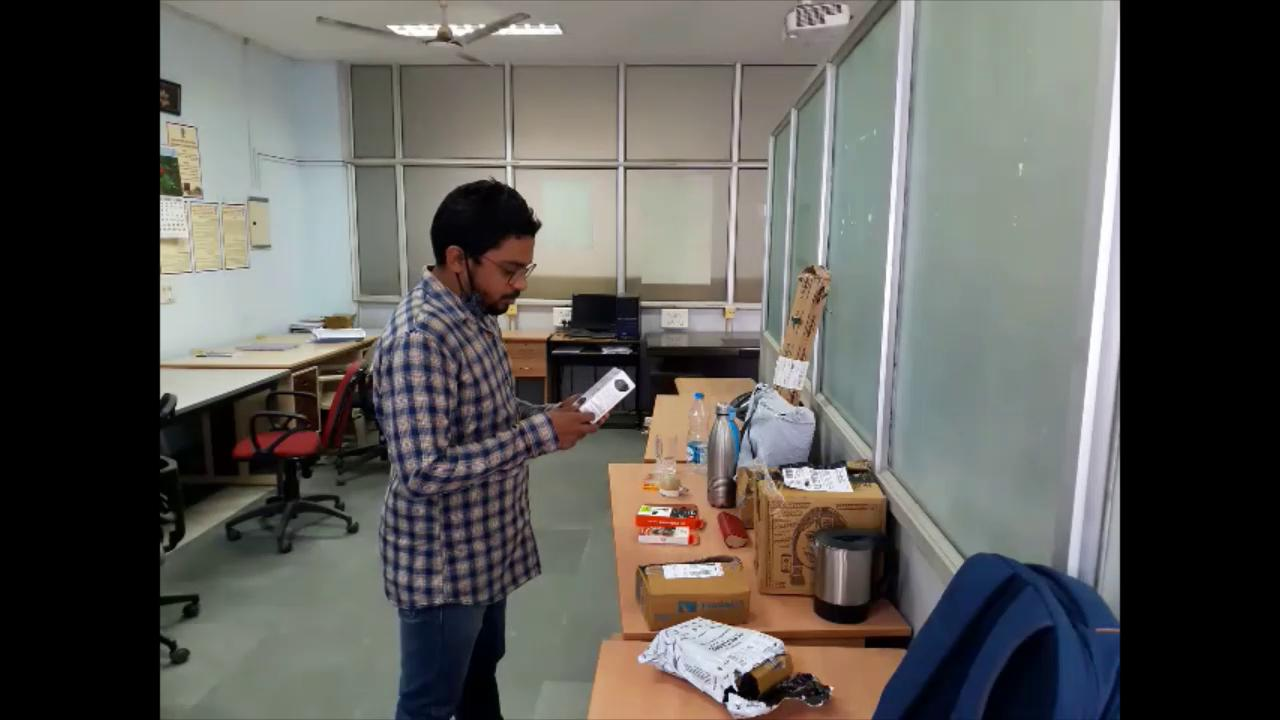Normal: (345, 181, 649, 720)
